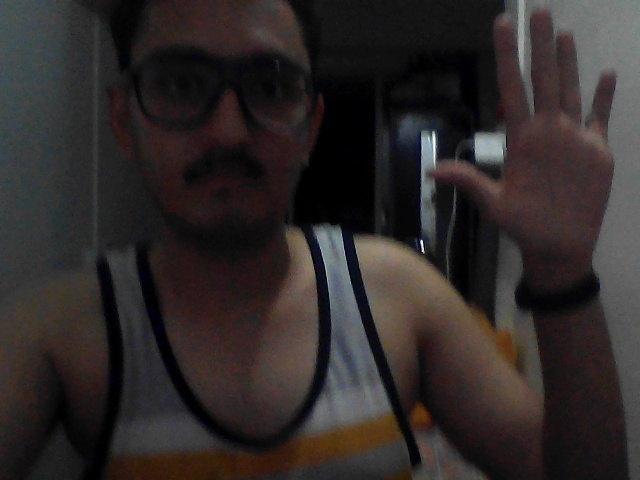Hello: (416, 9, 637, 255)
